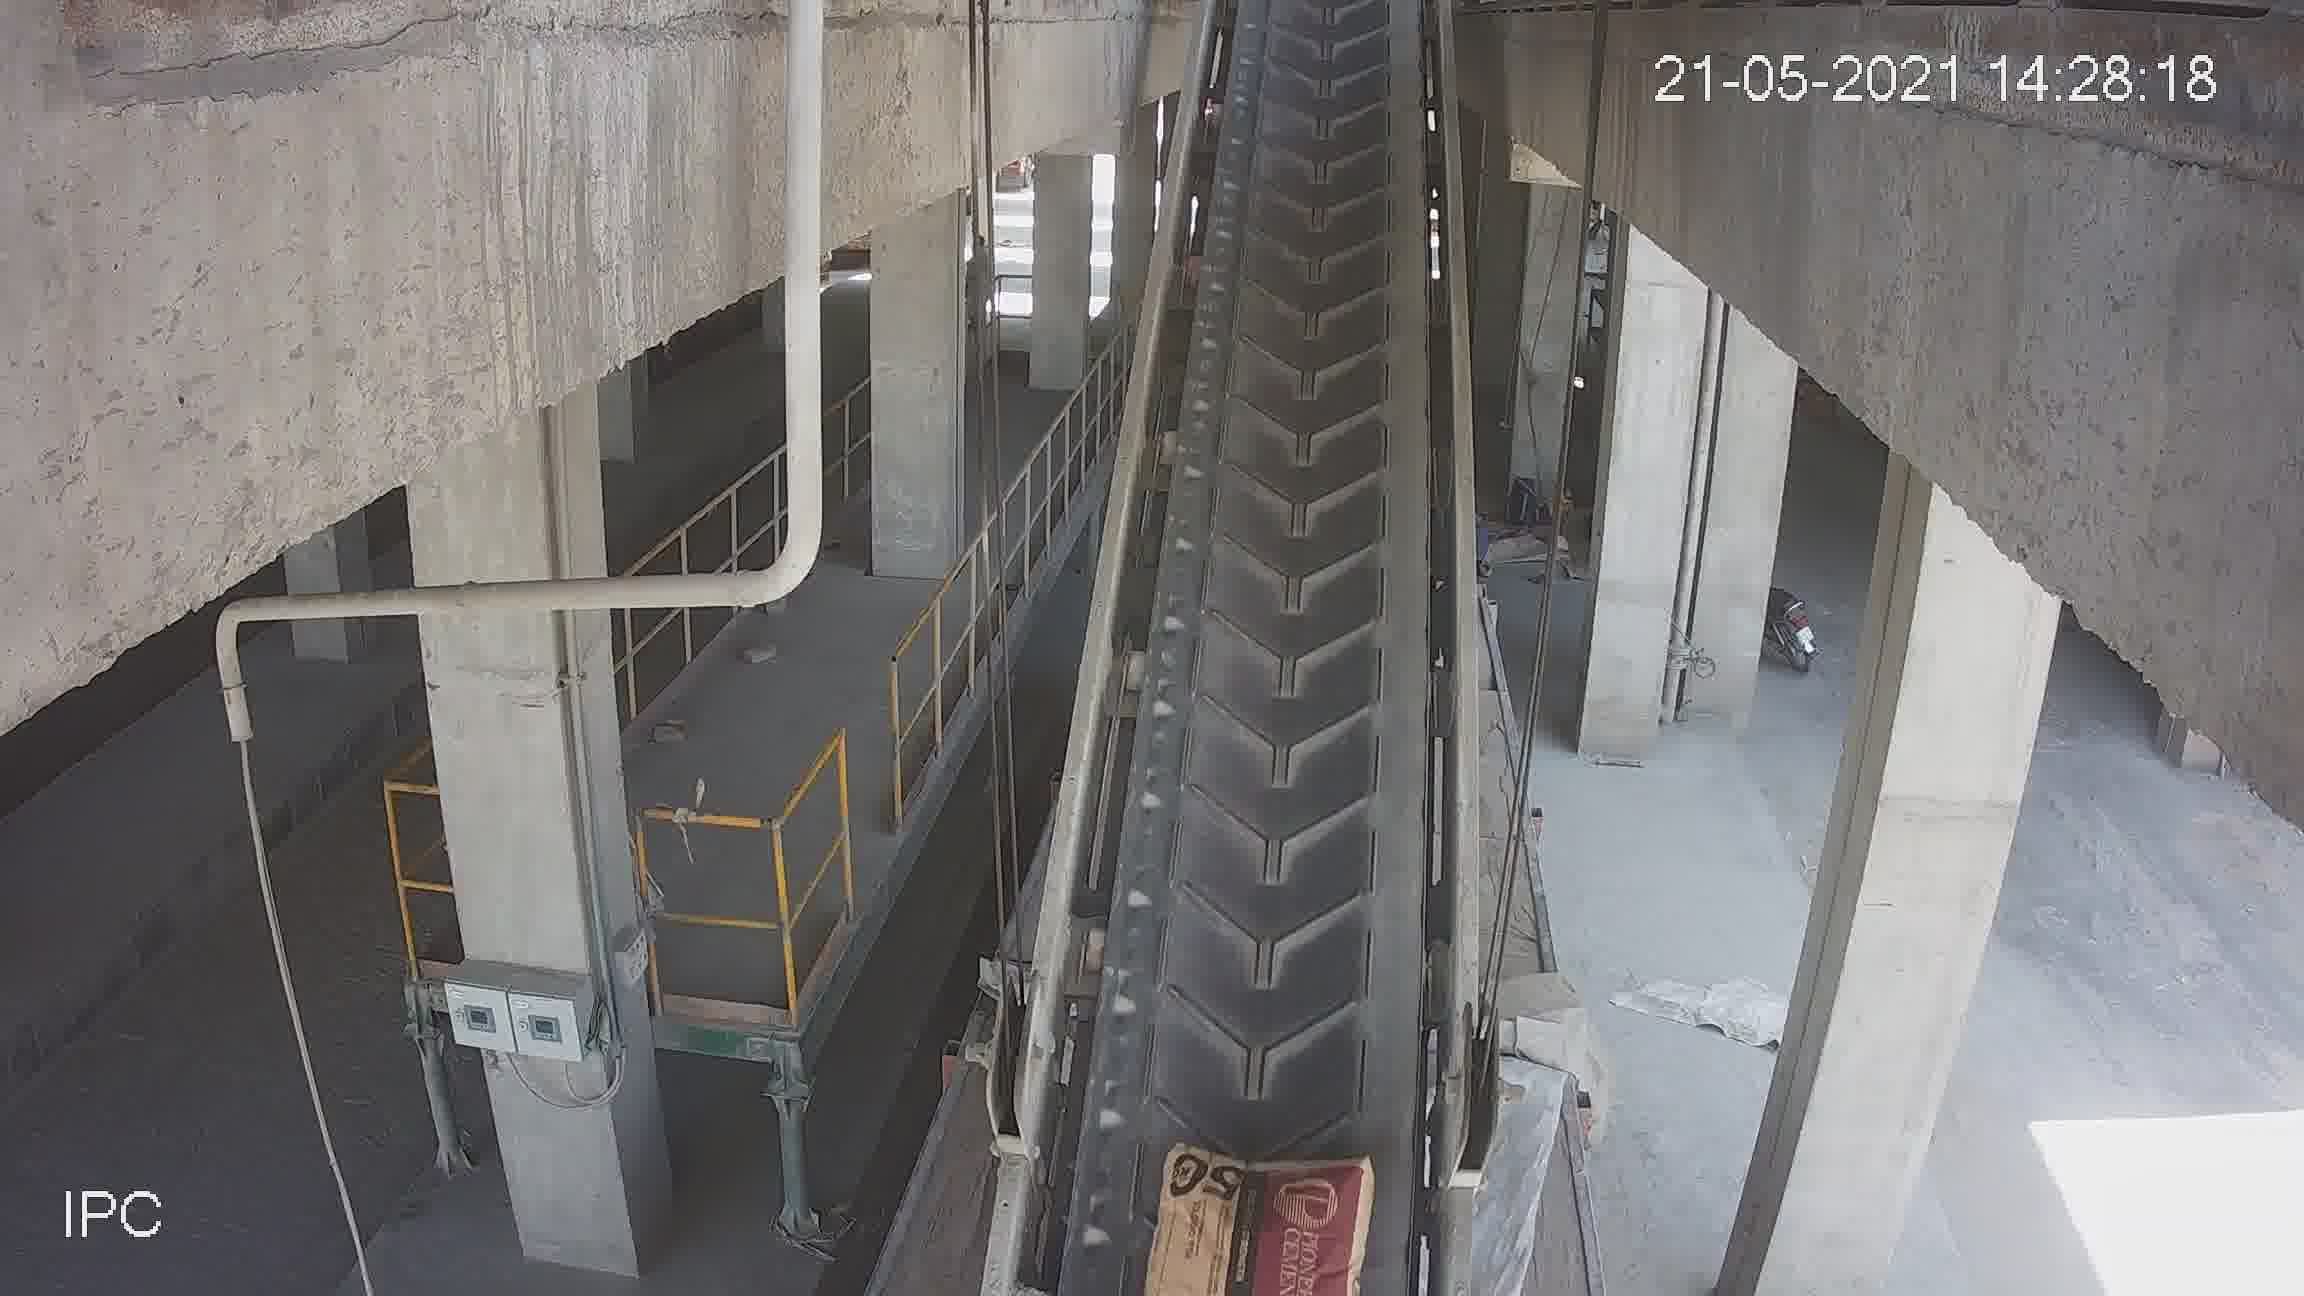bag: (1002, 28, 1473, 1241), (1152, 1152, 1370, 1296)
